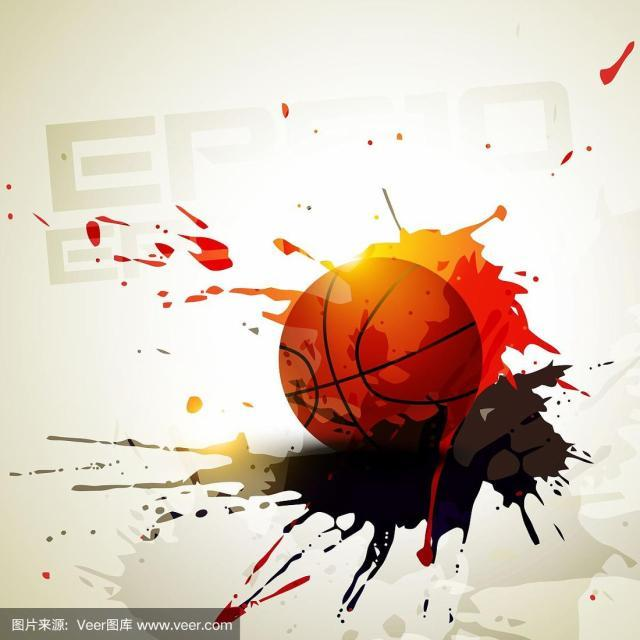rim: (278, 256, 482, 449)
